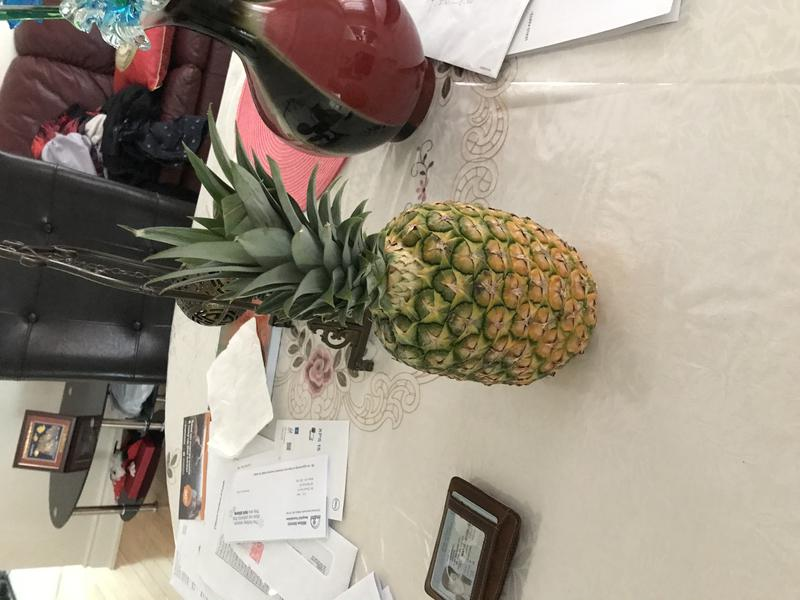pineapple: (146, 103, 606, 397)
